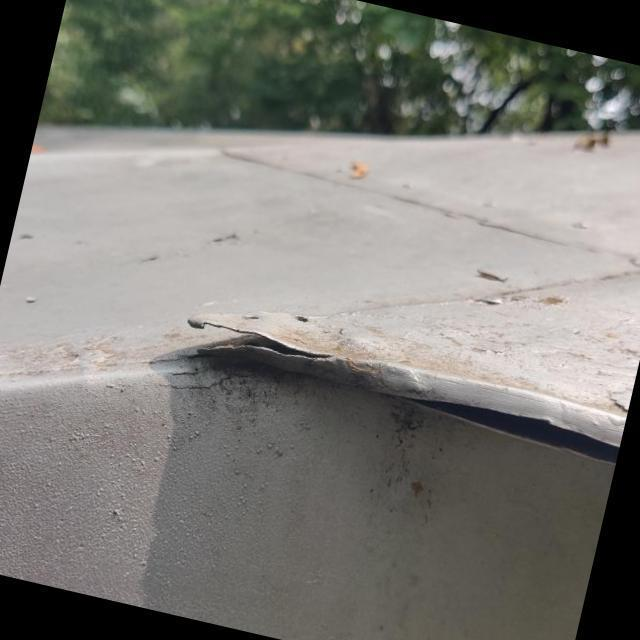Rupture: (154, 286, 353, 426)
